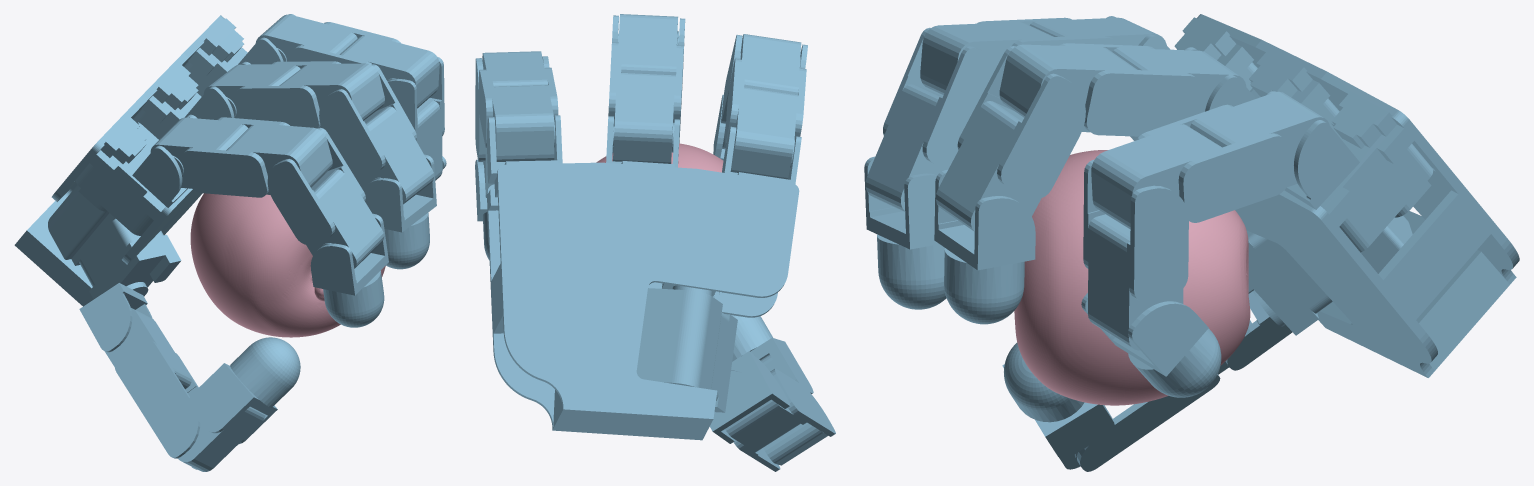
3 renders of one model, left to right at view 1: azimuth 30°, elevation 25°; view 2: azimuth 150°, elevation 25°; view 3: azimuth 270°, elevation 25°, orthographic. The views are drawn at different scales.
Visible parts, largest first — view 1: world; view 2: world; view 3: world.
Boxes of the visible parts, box(x1,y1,x2,y2) form: world: box(14, 14, 446, 471); world: box(475, 14, 835, 471); world: box(864, 14, 1519, 471).
Bounding box in the file's own units: 0.1582 × 0.1668 × 0.1957.
